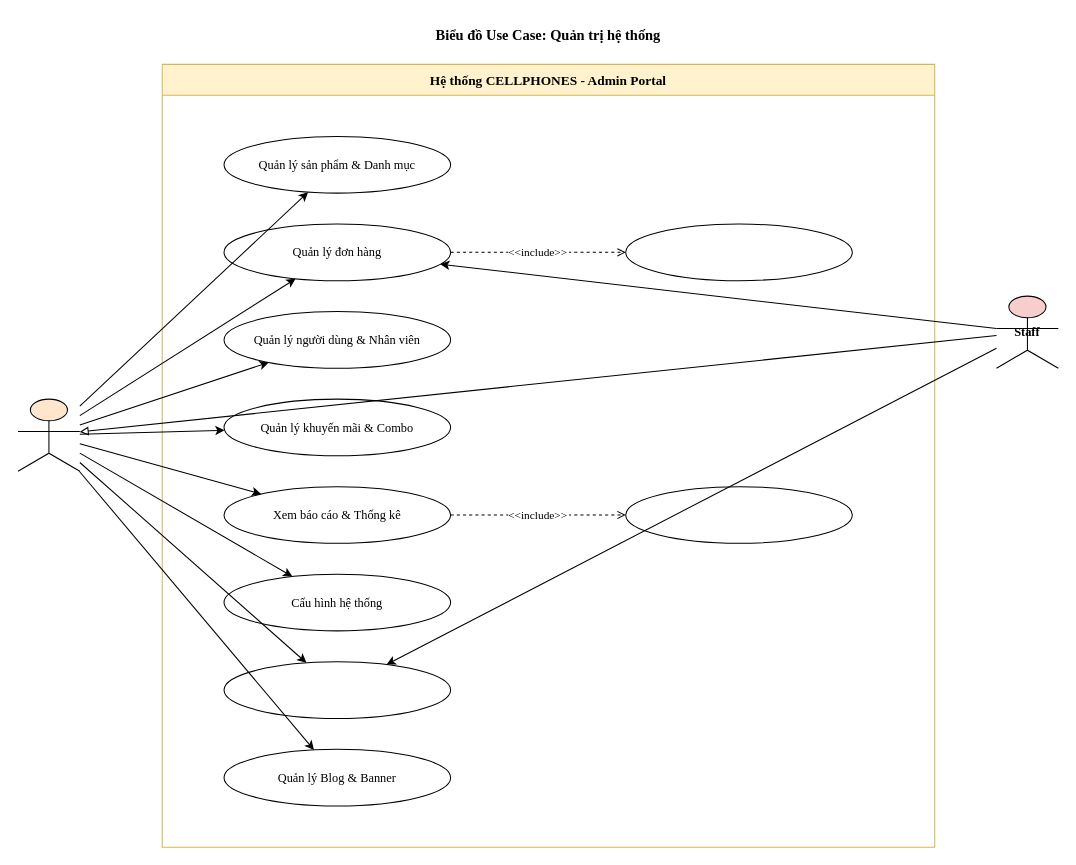
This 1076x865 diagram has some shape labels left out. The shapes that lost their labels are listed below. From the top down, each one's centre as x and y in pixels, then its label:
At pixel 738 252: "Cập nhật trạng thái đơn hàng".
At pixel 48 434: "Admin".
At pixel 738 514: "Xuất báo cáo Excel/CSV".
At pixel 337 689: "Quản lý trả hàng & Bảo hành".
